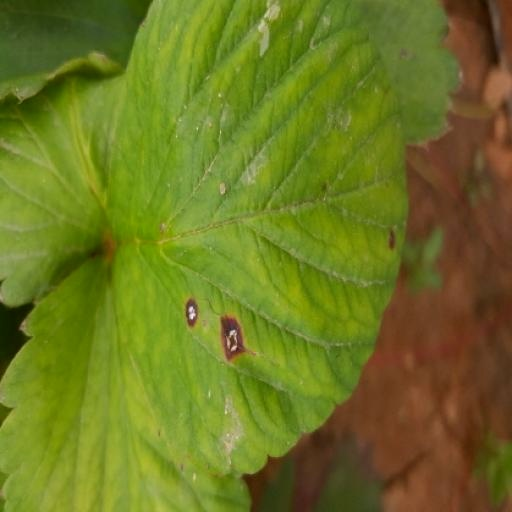Leaf Spot: (106, 33, 409, 511), (351, 363, 466, 511)
